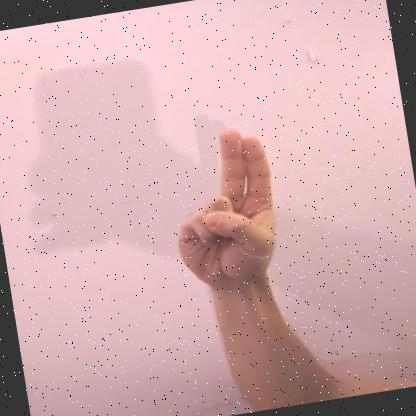U: (177, 128, 275, 287)
